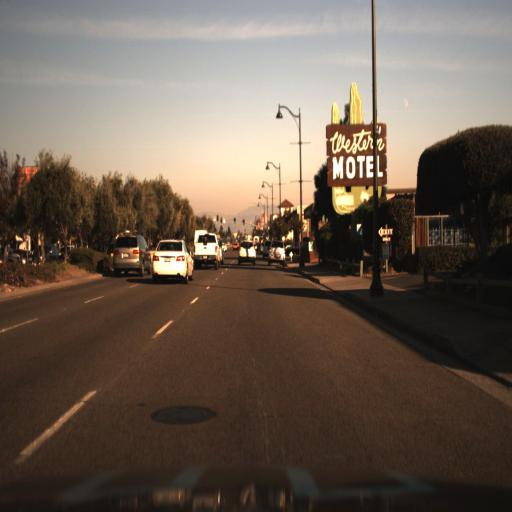car: (149, 235, 196, 285), (111, 230, 152, 279), (194, 229, 221, 272), (235, 236, 259, 265), (269, 239, 285, 263)
